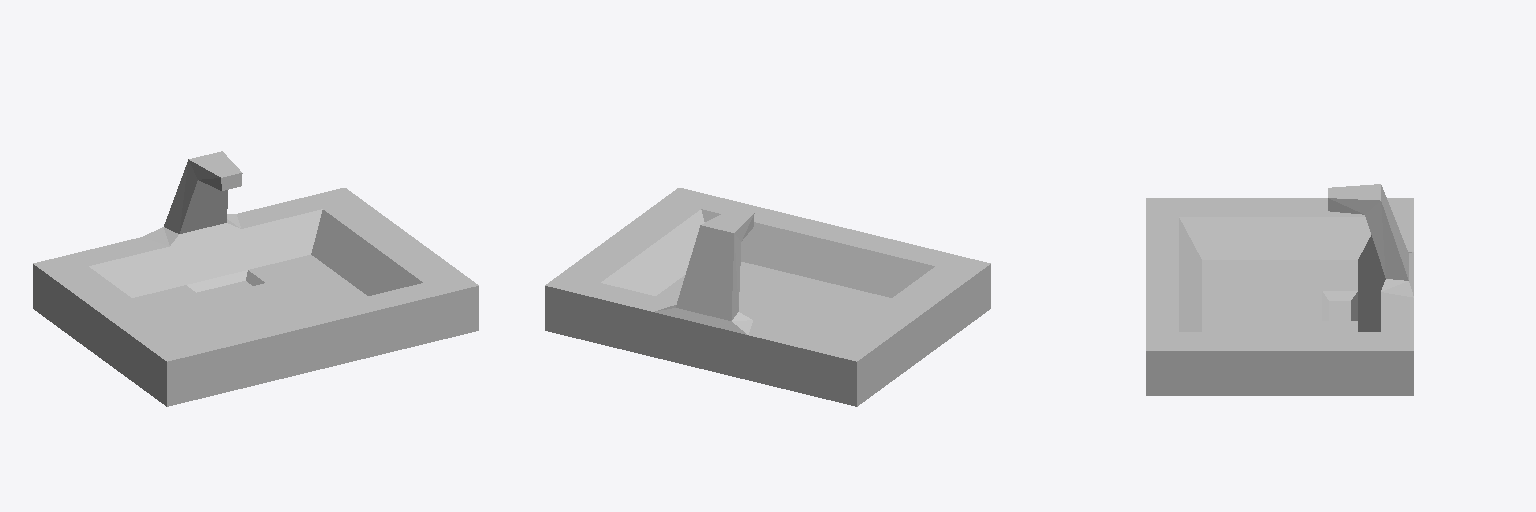
The model's file is Sink.obj.
The picture shows the model from 3 angles: view 1: azimuth 30°, elevation 25°; view 2: azimuth 150°, elevation 25°; view 3: azimuth 270°, elevation 25°; orthographic projection.
Parts seen in each view (by area): view 1: Sink_Cube.012; view 2: Sink_Cube.012; view 3: Sink_Cube.012.
Part boxes in pixels (x1,y1,x2,y2): Sink_Cube.012: (33,151,478,406); Sink_Cube.012: (545,188,990,406); Sink_Cube.012: (1146,184,1413,395).
Bounding box in the file's own units: 2.31 × 0.9 × 1.72.